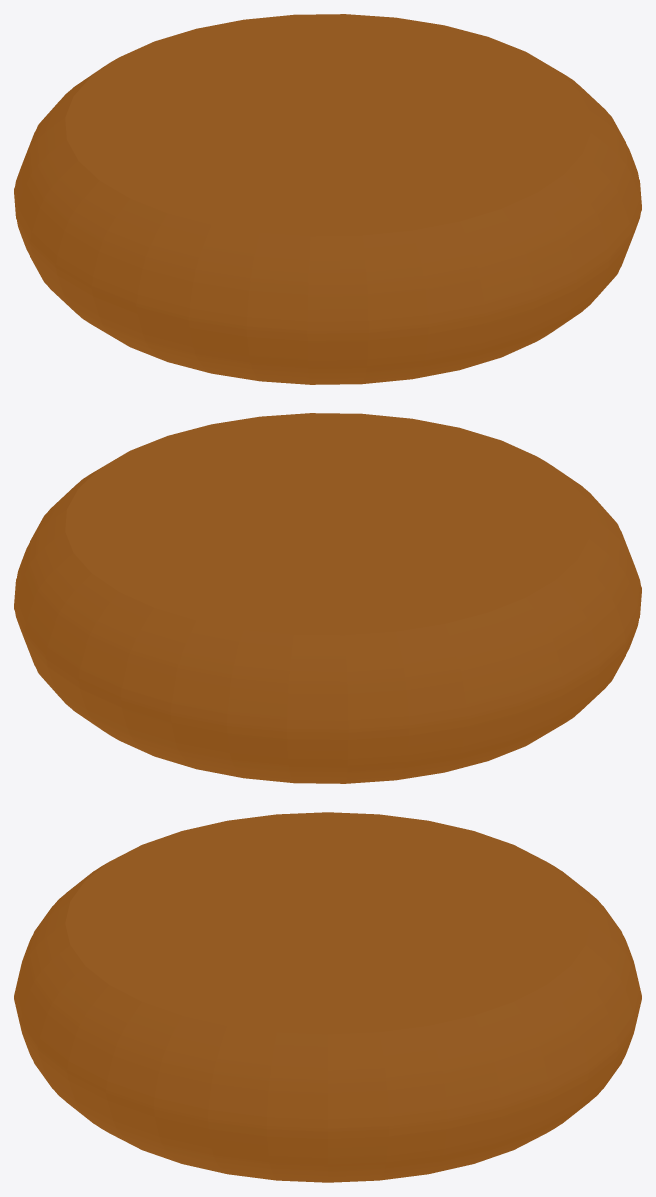
The model's file is highlight.fbx.
3 renders of one model, top to bottom at view 1: azimuth 30°, elevation 25°; view 2: azimuth 150°, elevation 25°; view 3: azimuth 270°, elevation 25°, orthographic.
Parts seen in each view (by area): view 1: High light; view 2: High light; view 3: High light.
Boxes of the visible parts, <box> form: High light: <box>14,14,641,384</box>; High light: <box>14,413,641,783</box>; High light: <box>14,812,641,1182</box>.
Bounding box in the file's own units: 257 × 66.99 × 257.
